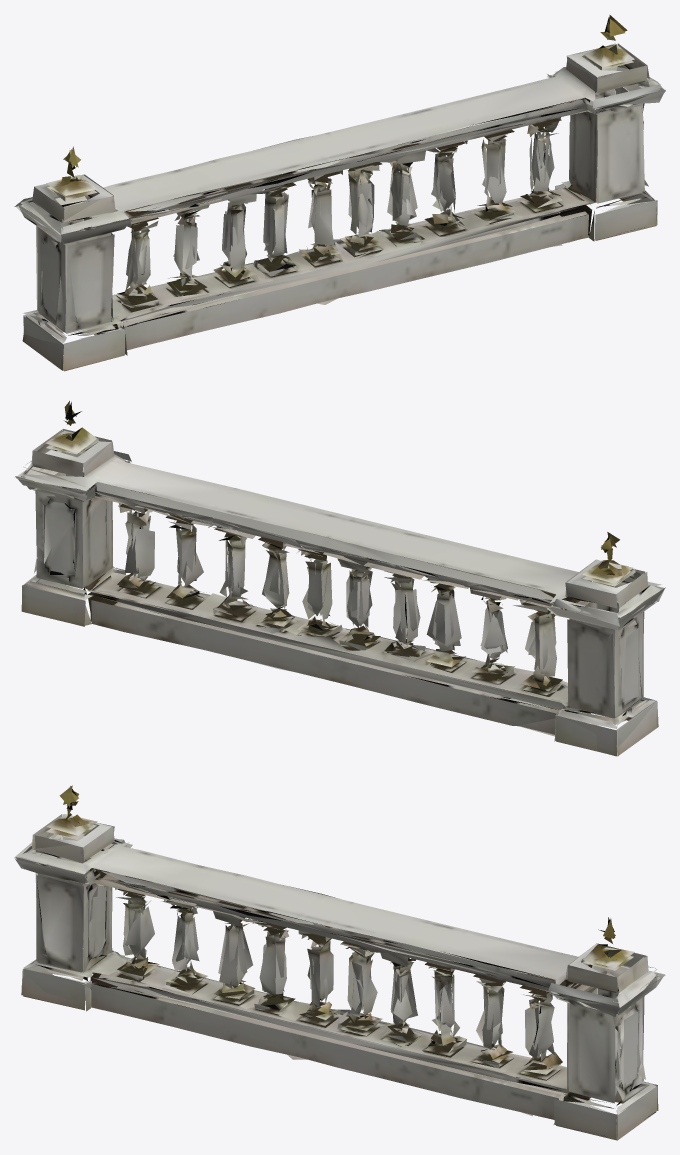
Rendered from town_balustrade_lod.glb.
The picture shows the model from 3 angles, top to bottom: view 1: azimuth 30°, elevation 25°; view 2: azimuth 150°, elevation 25°; view 3: azimuth 330°, elevation 25°; orthographic projection.
Parts seen in each view (by area): view 1: town_balustrade; view 2: town_balustrade; view 3: town_balustrade.
Part boxes in pixels (x1,y1,x2,y2): town_balustrade: [14, 15, 665, 371]; town_balustrade: [15, 401, 665, 756]; town_balustrade: [14, 785, 665, 1140].
Bounding box in the file's own units: 3.68 × 1.19 × 0.4923.
Materials: 1 (1 with a texture image).
